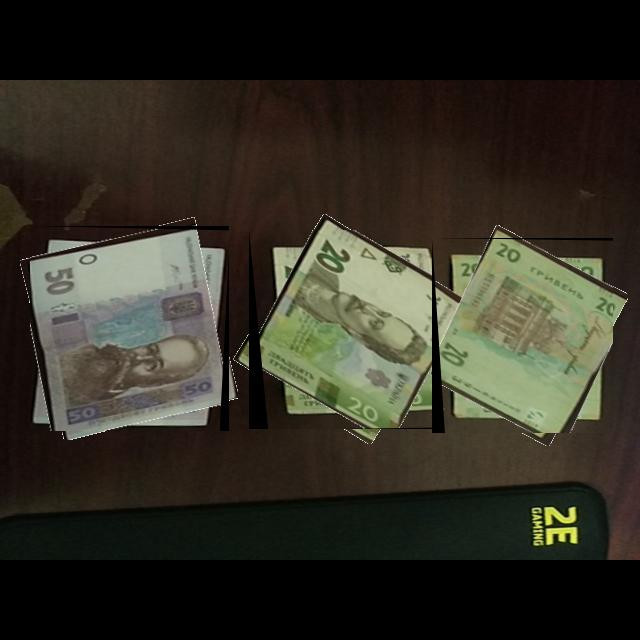20uah: (249, 230, 445, 430), (432, 238, 614, 434)
50uah: (30, 226, 230, 432)
